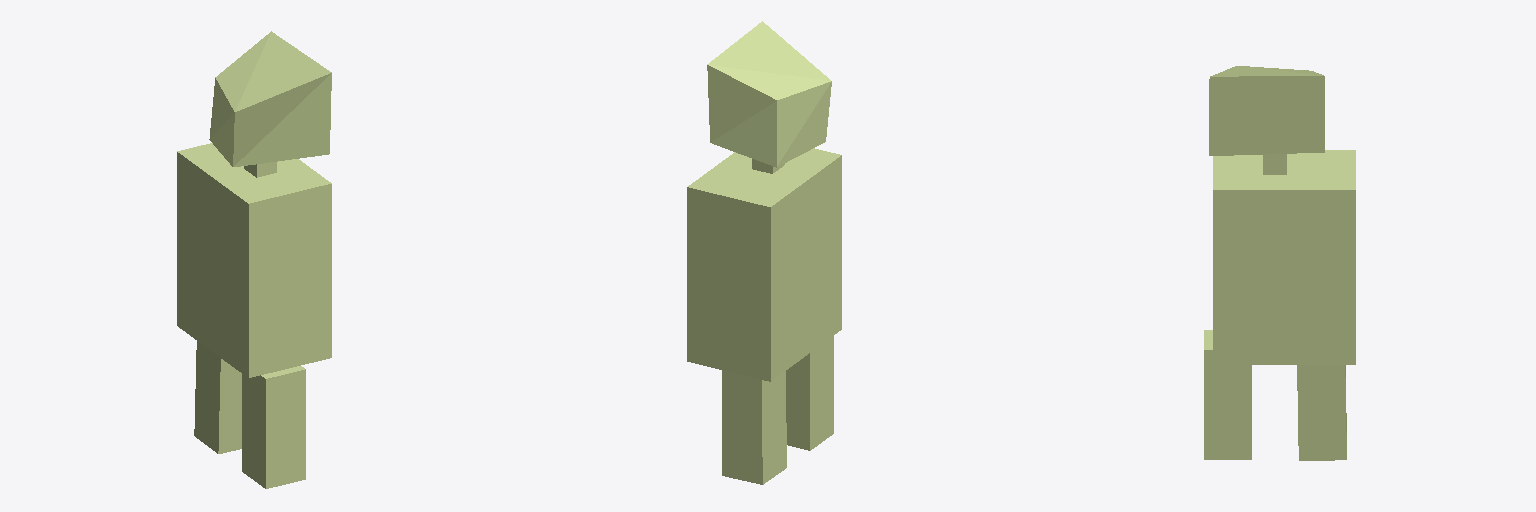
The model's file is Bicho.obj.
3 views of the same model, side by side, from view 1: azimuth 30°, elevation 25°; view 2: azimuth 150°, elevation 25°; view 3: azimuth 270°, elevation 25° (orthographic).
Parts seen in each view (by area): view 1: Box005, Object002, Object001; view 2: Box005, Object001, Object002; view 3: Box005, Object002, Object001.
Boxes of the visible parts, box(x1,y1,x2,y2) form: Box005: box(177, 31, 331, 377); Object002: box(242, 366, 305, 488); Object001: box(194, 341, 241, 453); Box005: box(687, 21, 841, 381); Object001: box(722, 370, 786, 484); Object002: box(786, 336, 833, 450); Box005: box(1209, 66, 1355, 364); Object002: box(1204, 330, 1251, 459); Object001: box(1297, 365, 1346, 460).
Size of the model in its own units: 40.48 by 181 by 62.88.